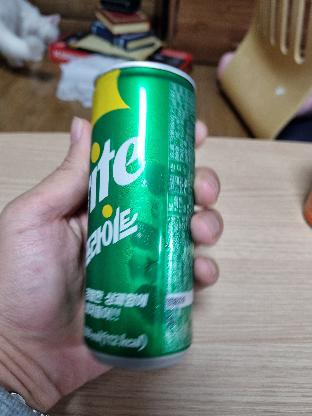Can: (80, 61, 196, 365)
